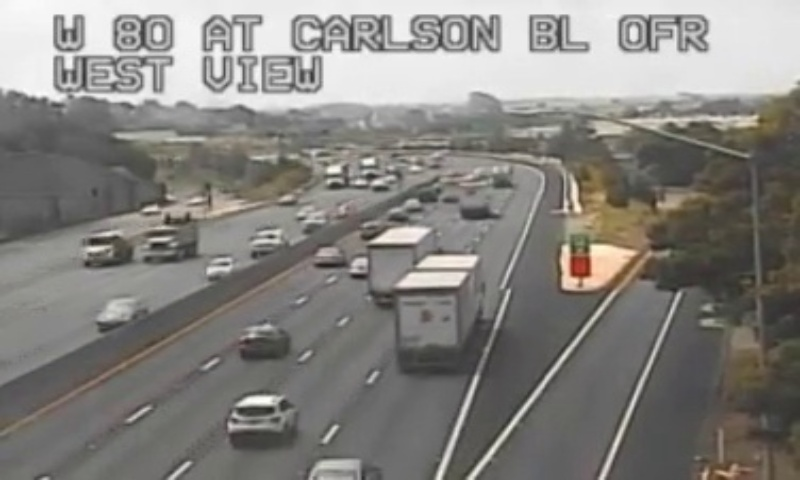car: (227, 395, 297, 438), (238, 325, 287, 356), (313, 246, 343, 266)
truck: (395, 254, 480, 369), (365, 227, 438, 306)
